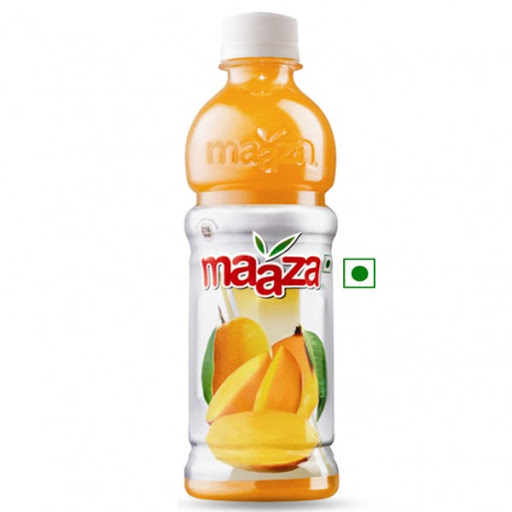VEG: (341, 256, 377, 288), (323, 256, 333, 273)
